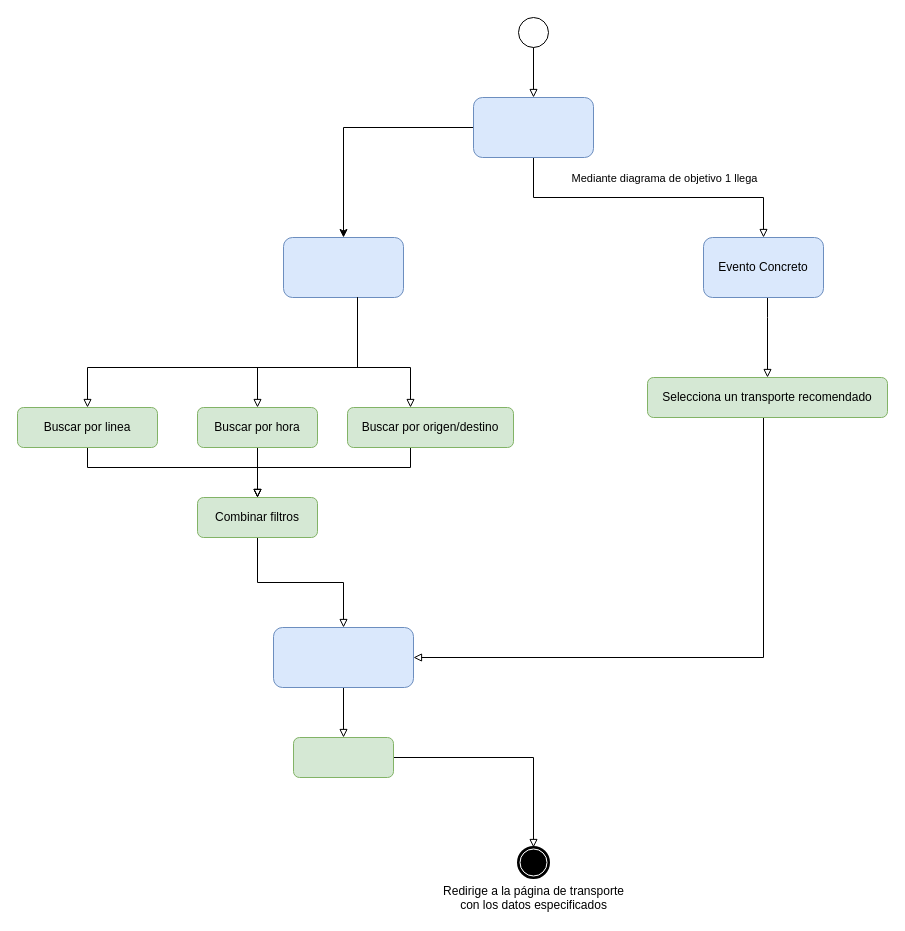
This 905x931 diagram has some shape labels left out. The shapes that lost their labels are listed below. From the top down, each one's box as (x1, y1, x2, y2) in pixels, then its label:
(472, 96, 594, 158): Home
(282, 236, 404, 298): Transporte
(272, 626, 414, 688): Transporte información concreta
(292, 736, 394, 778): Comprar
